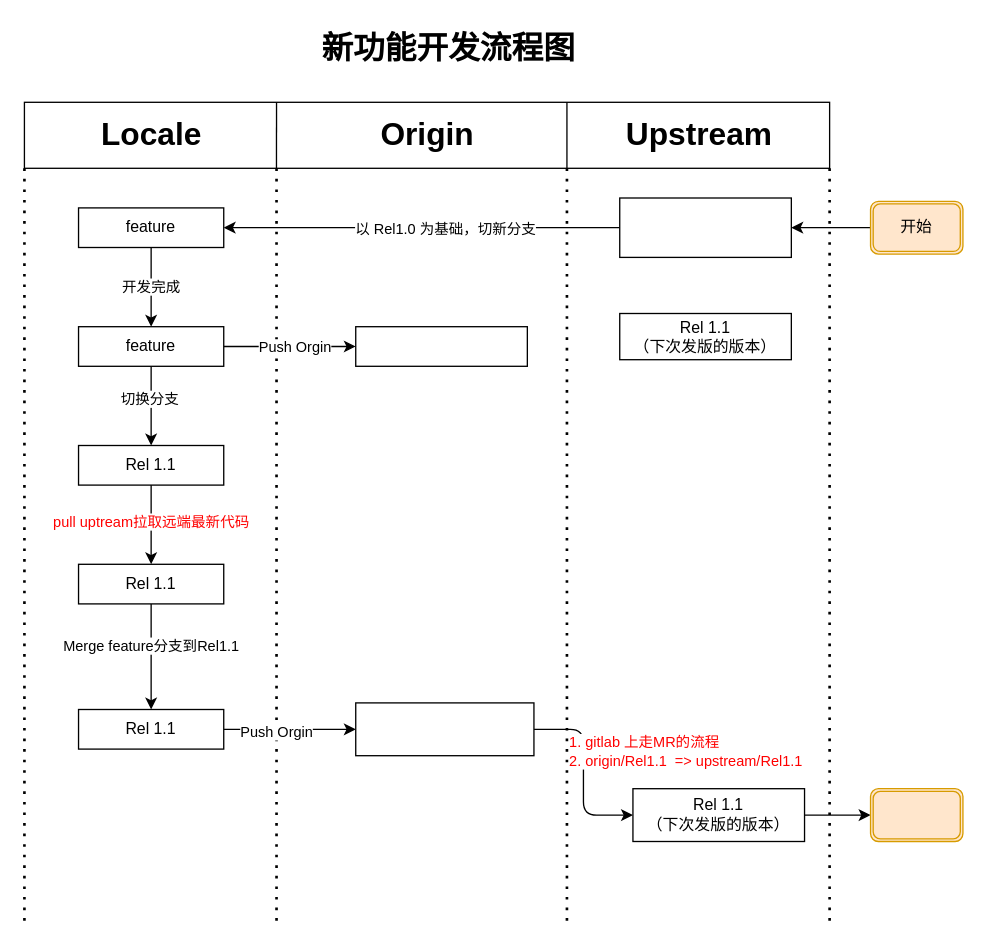
Image size: 986x945. Some labels were removed from this diagram. Each missing label, with the box of its shape:
feature （推送到个人仓库）: (354, 325, 527, 366)
Rel 1.0 （上次发版的版本）: (618, 197, 791, 257)
Rel 1.1 （推送到个人仓库）: (354, 702, 534, 756)
结束: (869, 787, 963, 842)
